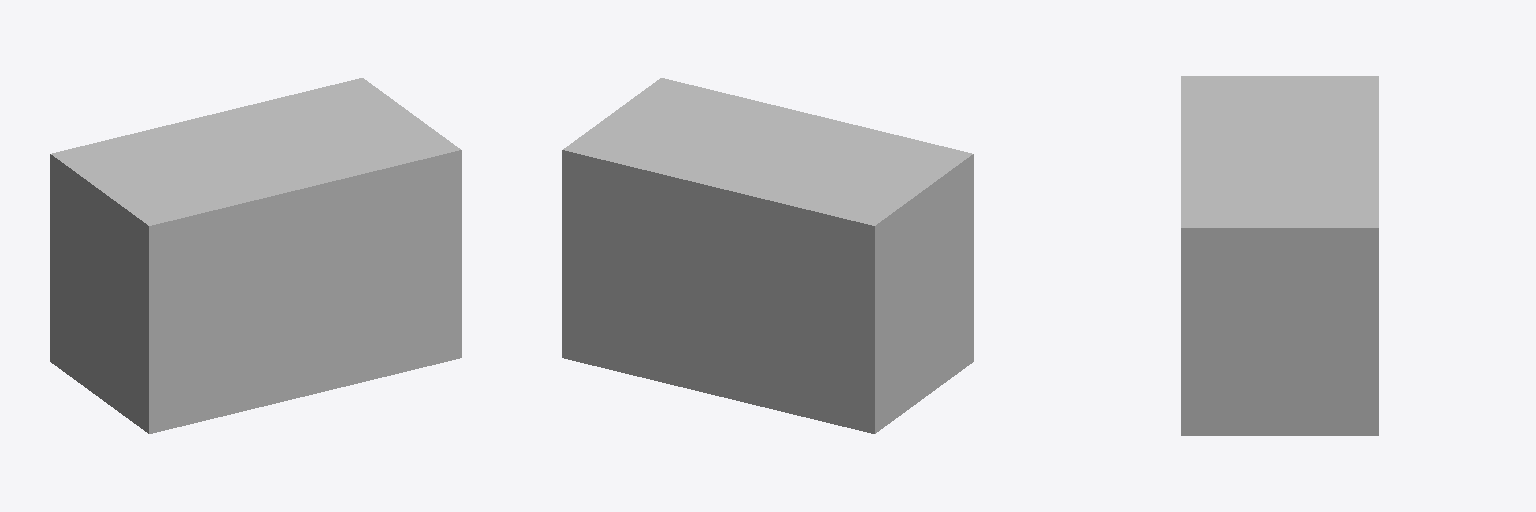
File: Update_Mesh2.obj
3 views of the same model, side by side, from view 1: azimuth 30°, elevation 25°; view 2: azimuth 150°, elevation 25°; view 3: azimuth 270°, elevation 25° (orthographic).
Visible parts, largest first — view 1: pCube1; view 2: pCube1; view 3: pCube1.
Boxes of the visible parts, x1=… form: pCube1: x1=50, y1=78, x2=461, y2=433; pCube1: x1=562, y1=78, x2=973, y2=433; pCube1: x1=1181, y1=76, x2=1378, y2=435.
Bounding box in the file's own units: 9.07 × 5.78 × 4.97.